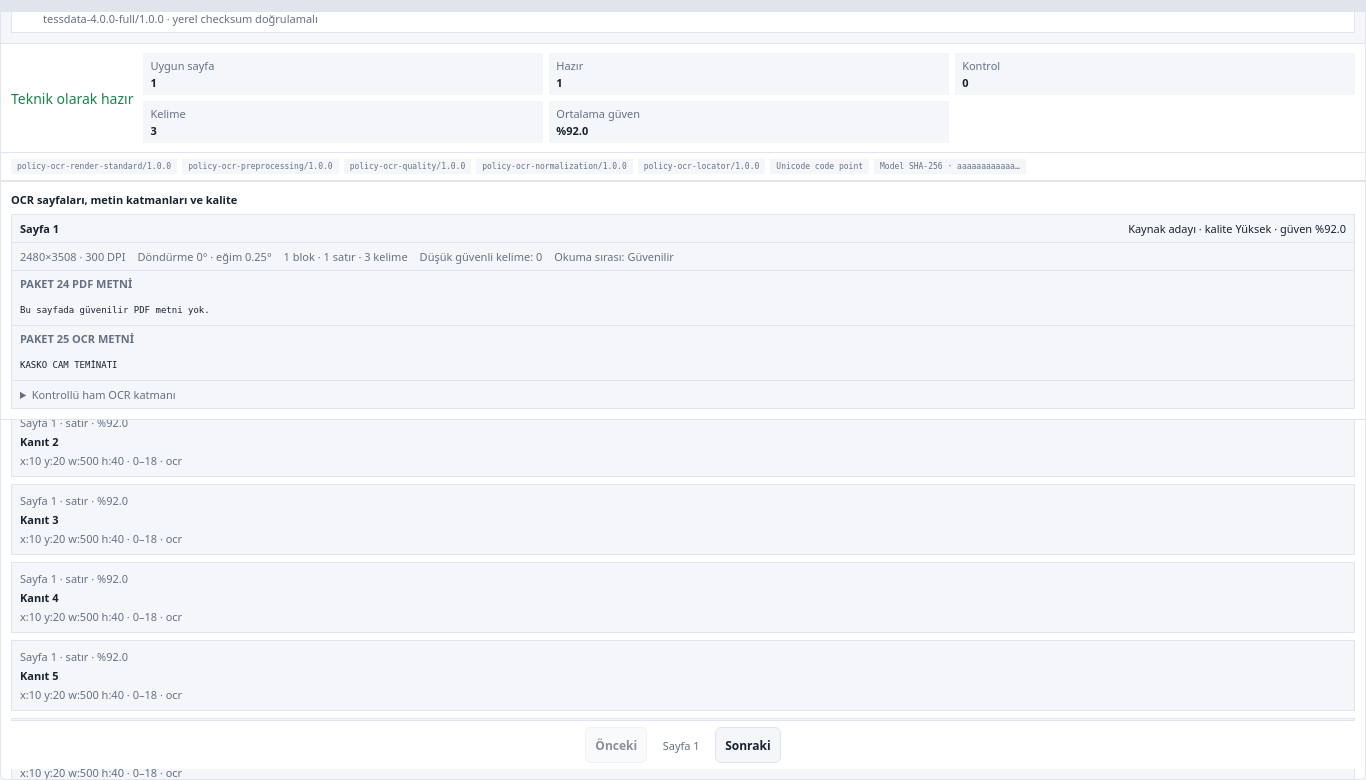
Test case: Paket 25 yerel OCR UI › 100 öğelik kanıt listesini gerçek API sayfalamasıyla ilerletir
(page scrolled)
Click the button "Sonraki" at {"x": 748, "y": 745}, box [715,727,781,763]
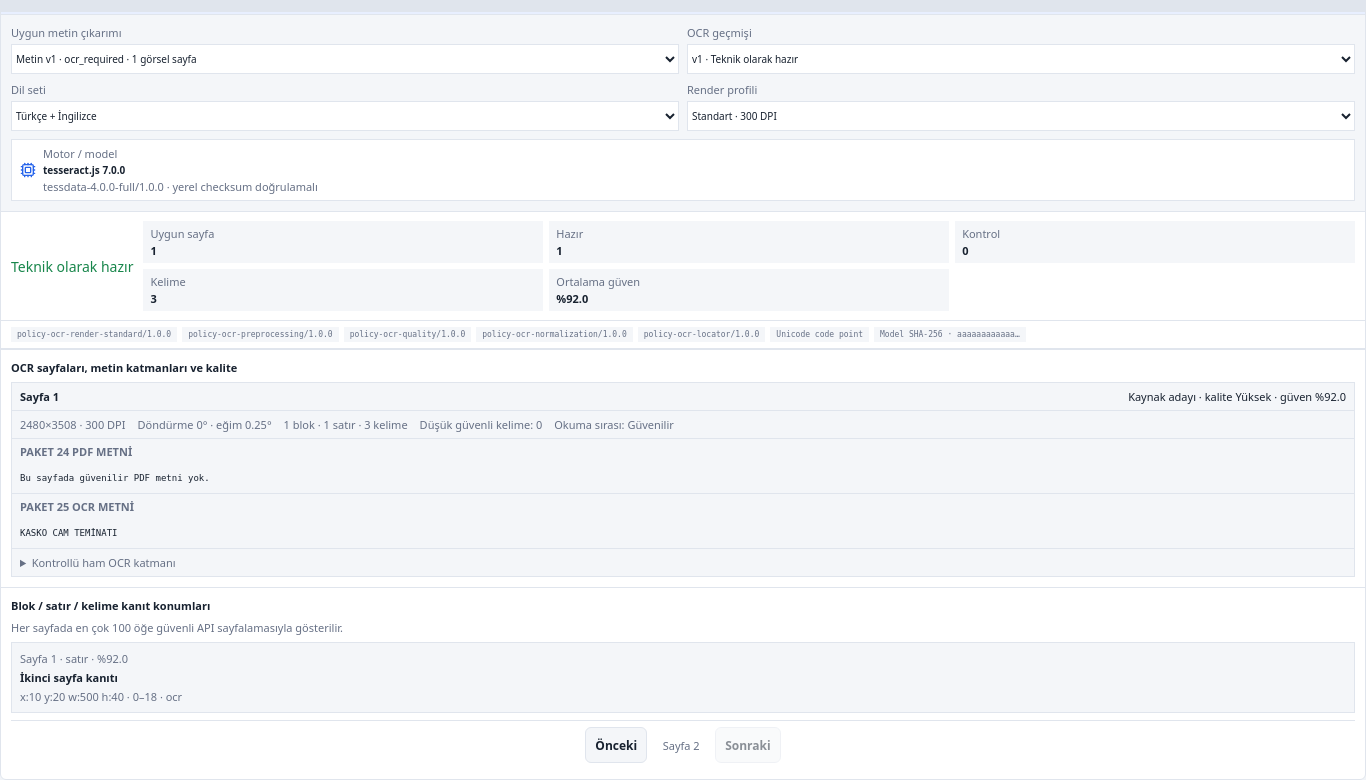
Check: the text "İkinci sayfa kanıtı" is shown, box [20,670,118,685]
Check: the text "Sayfa 2" is shown, box [663,738,700,753]
